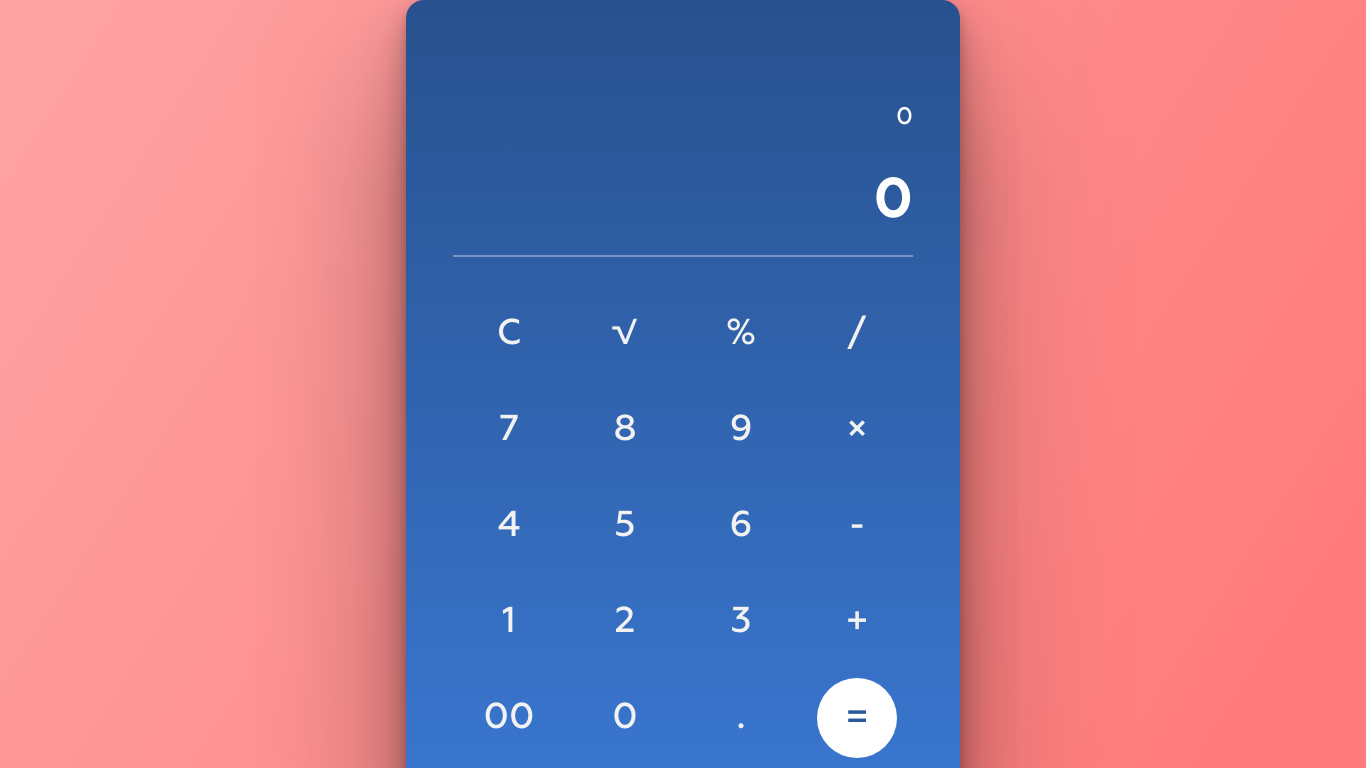
Basic Math Operations › should calc addition 1 + 2 = 3
What coordinates should you click on to do the following:
click the button "1"
I would click on:
 (509, 622)
Its box is [469,582,549,662].
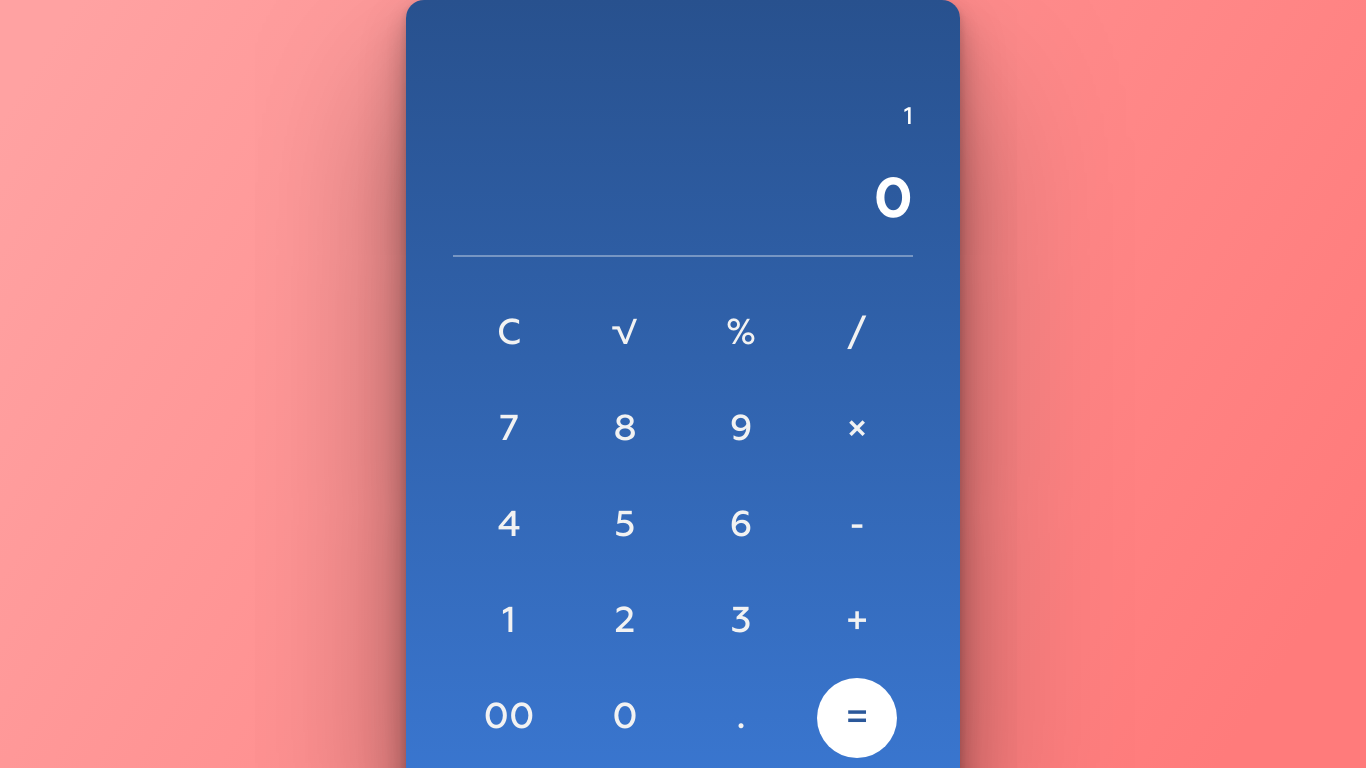
What coordinates should you click on to do the following:
click the button "+"
I would click on:
 (857, 622)
Its box is [817,582,897,662].
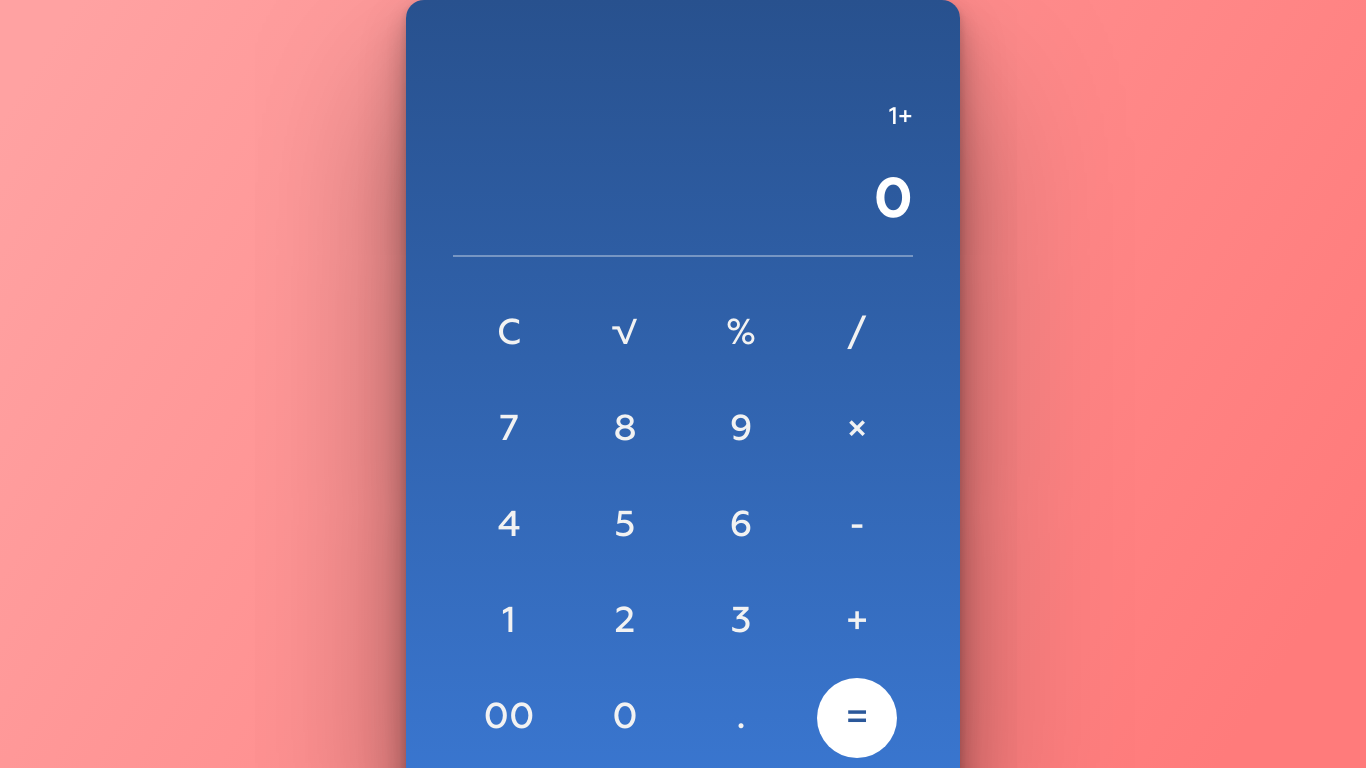
What coordinates should you click on to do the following:
click the button "2"
I would click on:
 (625, 622)
Its box is [585,582,665,662].
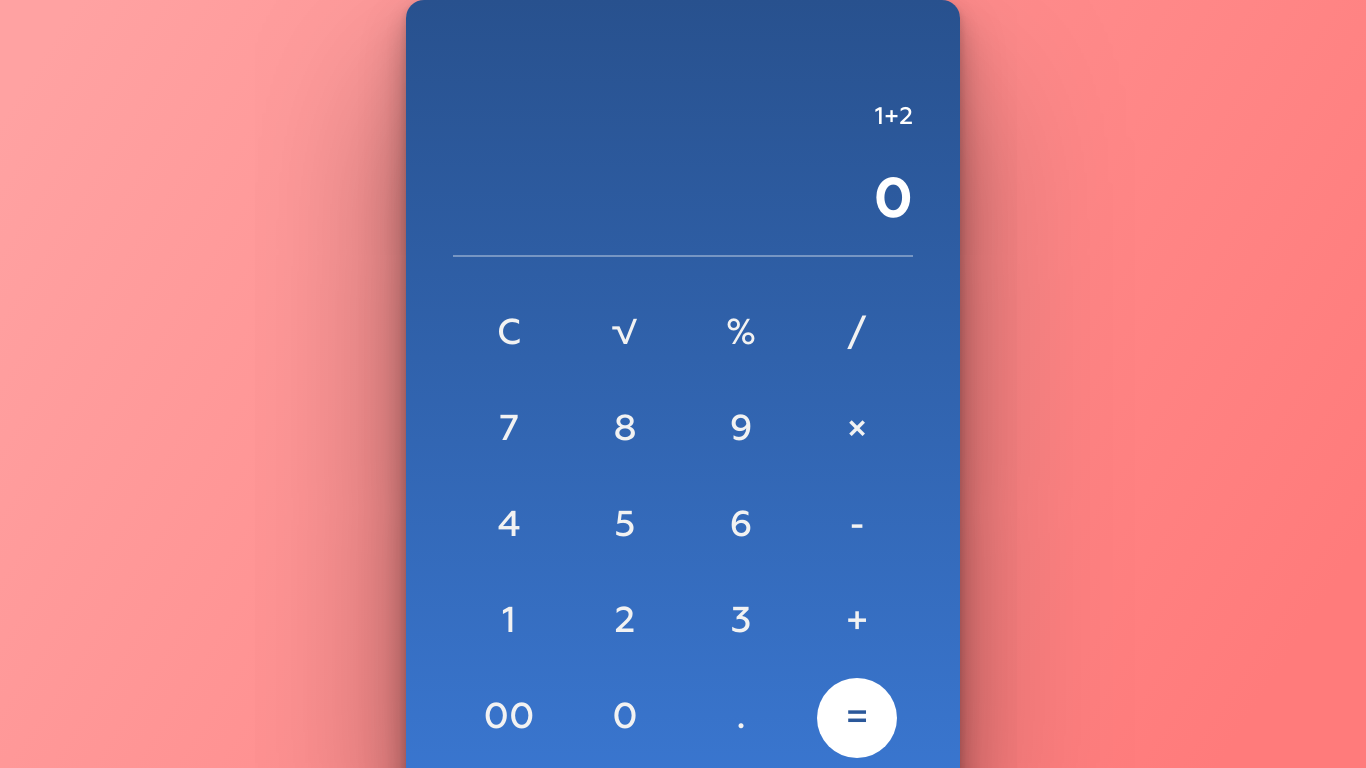
What coordinates should you click on to do the following:
click the button "="
I would click on:
 (857, 718)
Its box is [817,678,897,758].
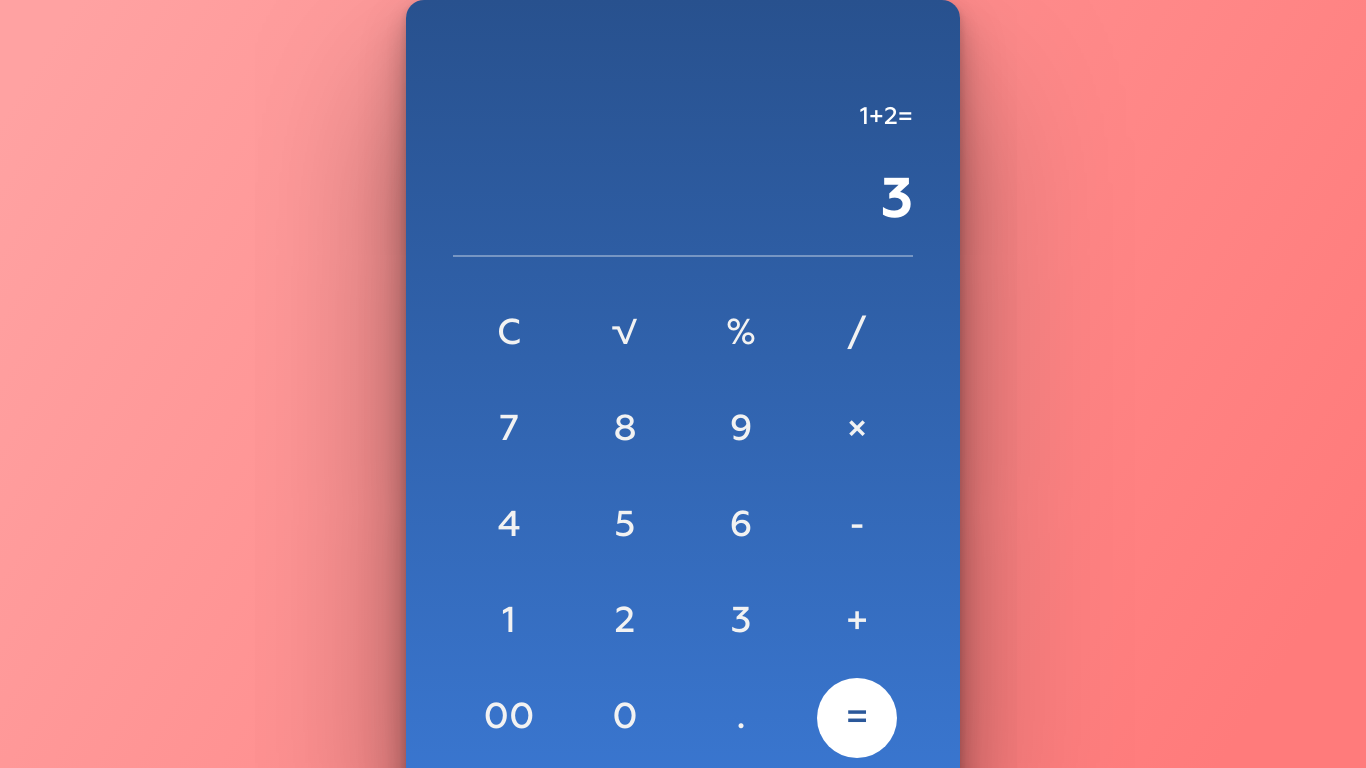
Expected: the text "3" is shown, [881,173,913,229]
